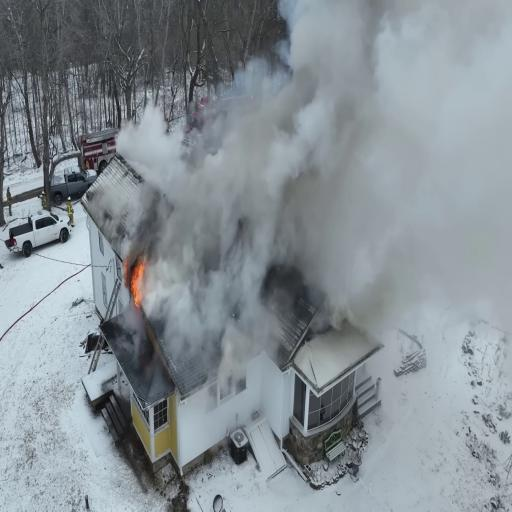fire: (118, 252, 148, 304)
smoke: (247, 108, 491, 273)
